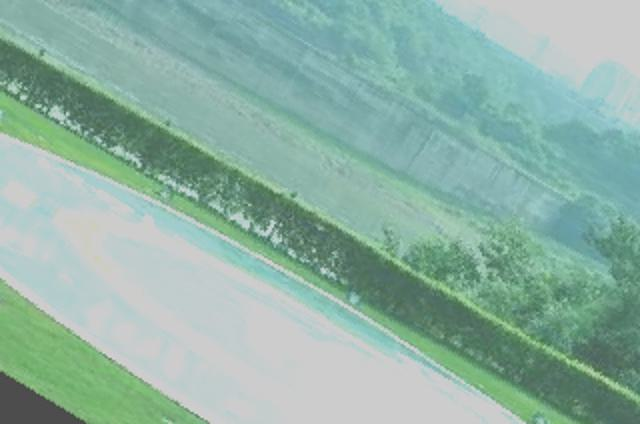Apron: (54, 195, 526, 424)
